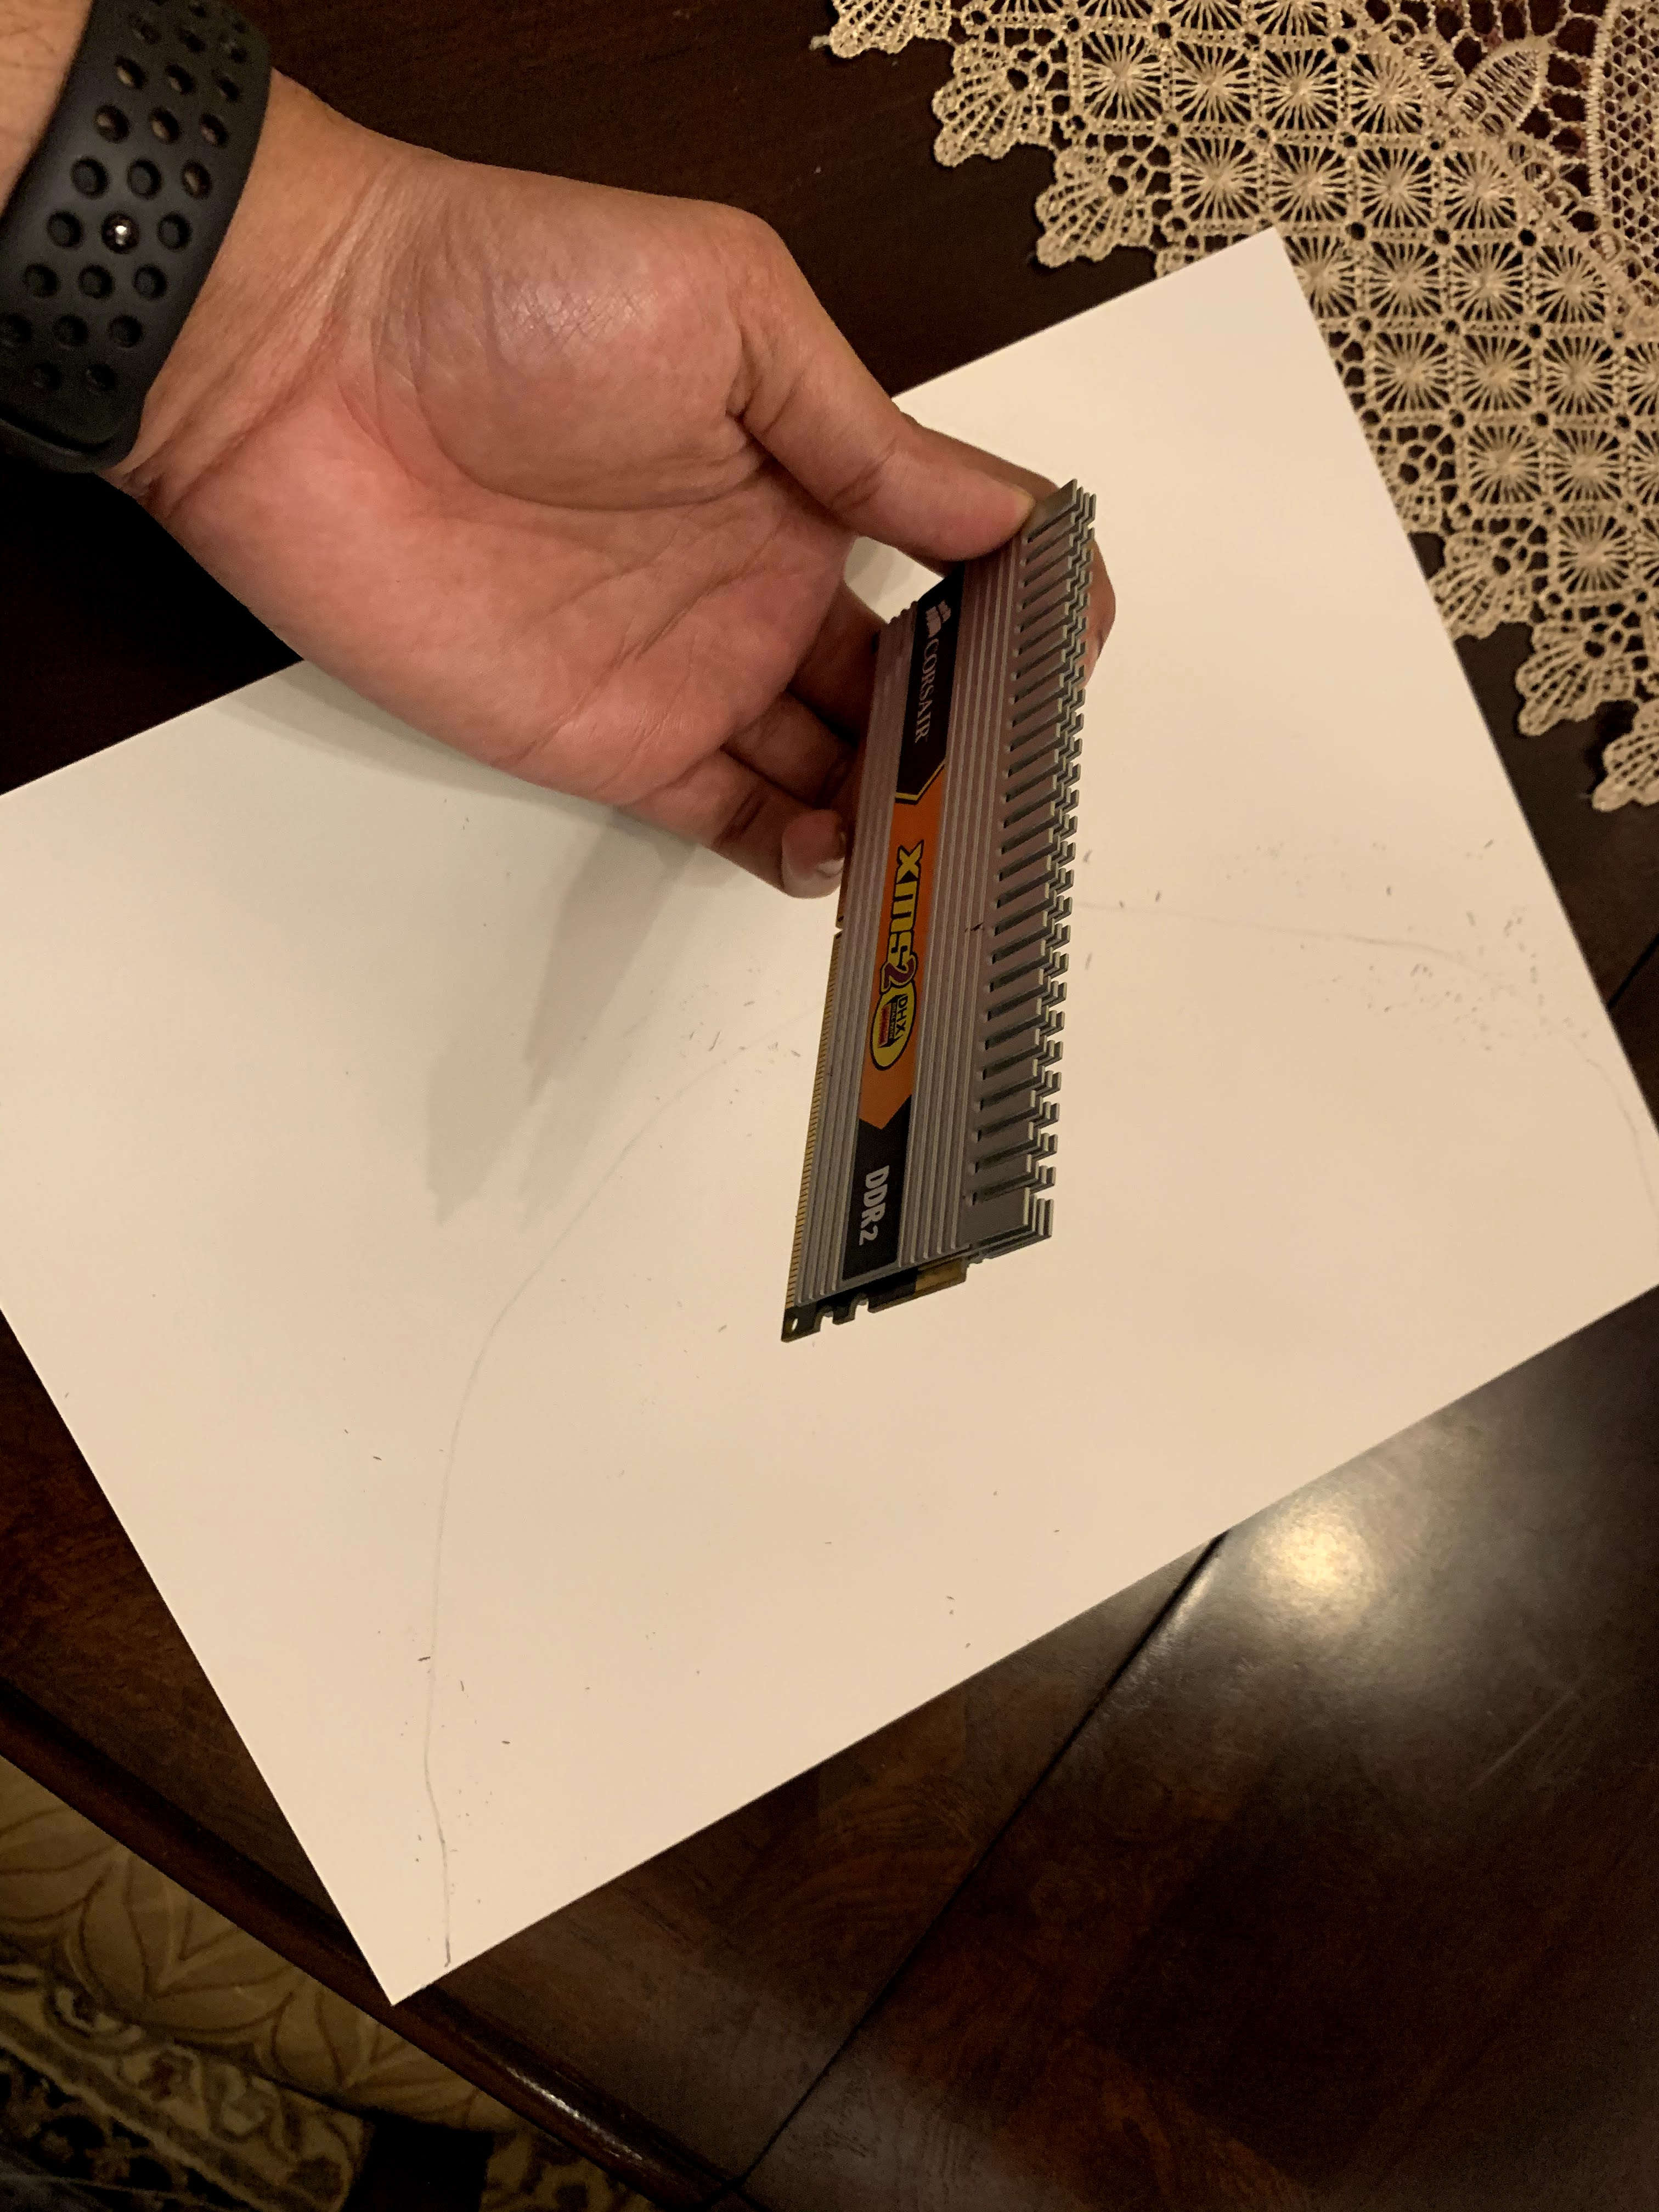Space-debris-medium: (805, 474, 1121, 1339)
